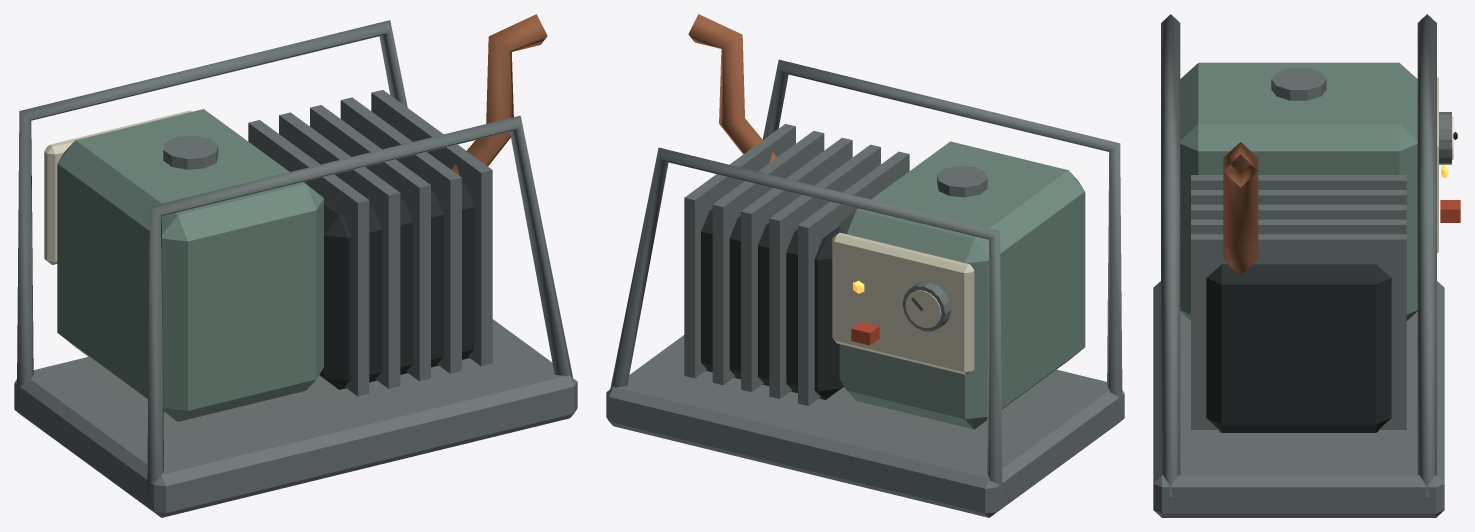
Rendered from generator.glb.
The picture shows the model from 3 angles, left to right: view 1: azimuth 30°, elevation 25°; view 2: azimuth 150°, elevation 25°; view 3: azimuth 270°, elevation 25°; orthographic projection. The views are drawn at different scales.
Parts seen in each view (by area): view 1: generator; view 2: generator; view 3: generator.
Part boxes in pixels (x1=…): generator: x1=14, y1=14, x2=577, y2=517; generator: x1=606, y1=14, x2=1124, y2=517; generator: x1=1153, y1=14, x2=1460, y2=517.
Bounding box in the file's own units: 1.67 × 1.39 × 1.05.
